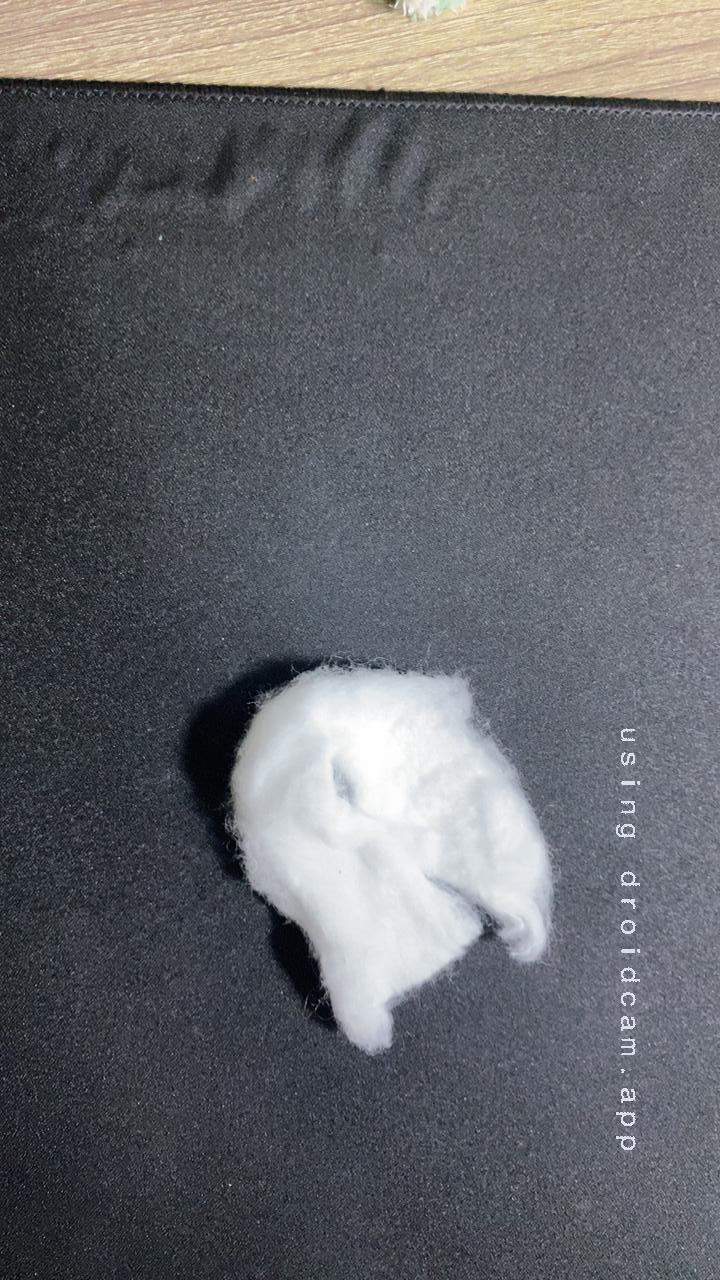cotton: (182, 655, 585, 1068)
